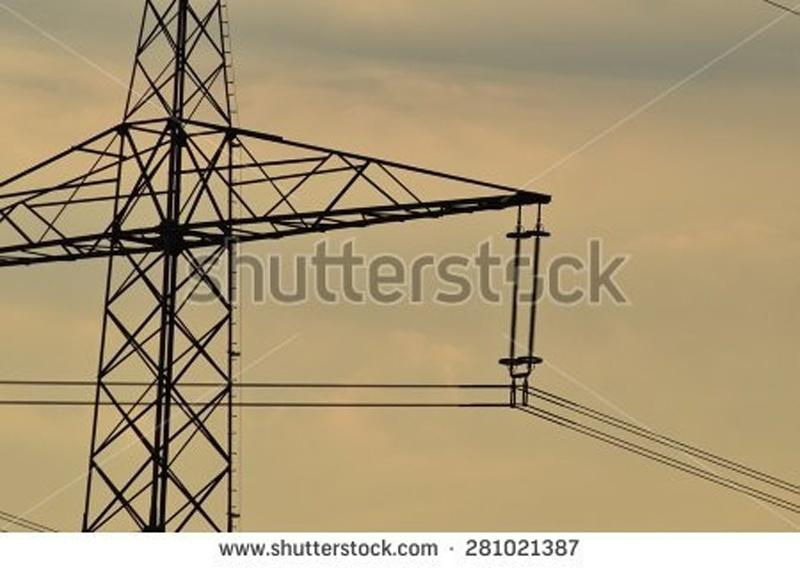power_tower: (2, 15, 527, 530)
